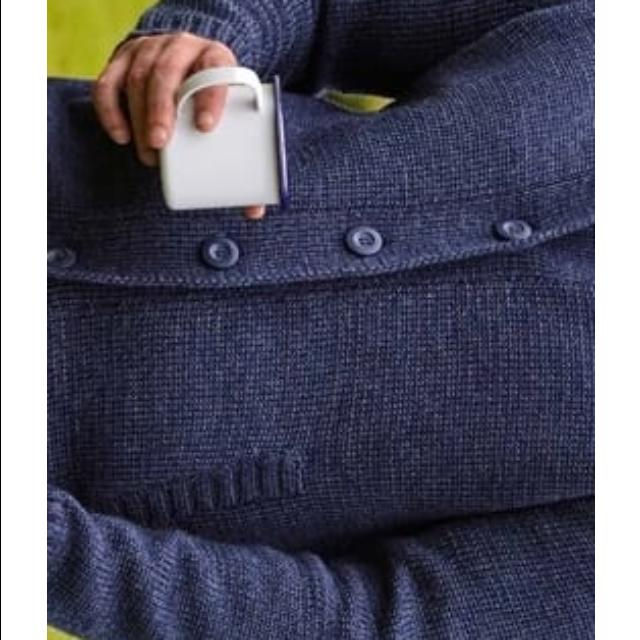wool: (46, 0, 594, 640)
